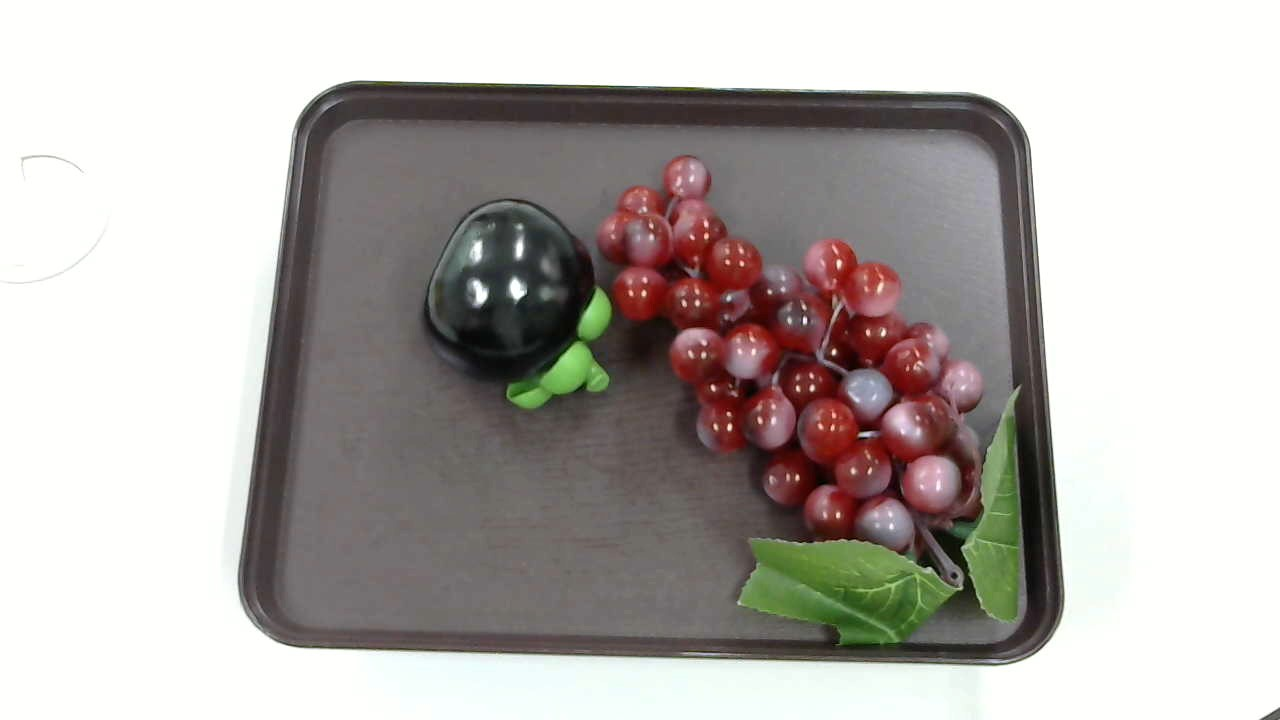grape: (601, 152, 1029, 644)
mangosteen: (417, 195, 612, 413)
